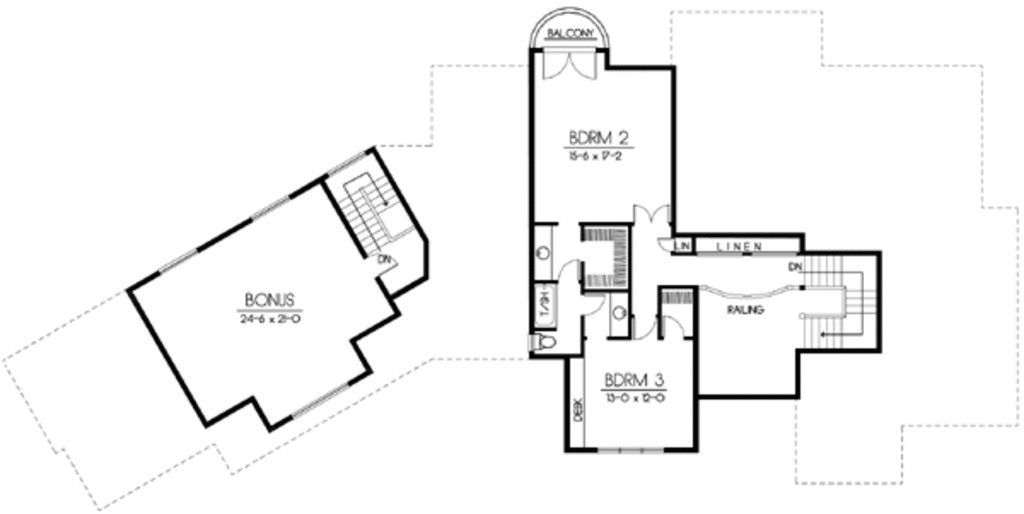door: (533, 43, 608, 88), (658, 308, 690, 343), (631, 205, 675, 229), (368, 245, 393, 285), (552, 256, 583, 283), (579, 293, 606, 319), (653, 230, 677, 256), (633, 315, 655, 341)
large_sink: (523, 329, 562, 354)
small_sink: (530, 225, 554, 278), (608, 292, 628, 342)
stairs: (321, 162, 419, 261), (793, 254, 880, 348)
window: (290, 376, 368, 416), (244, 195, 301, 221), (588, 440, 661, 456), (151, 250, 209, 270)
